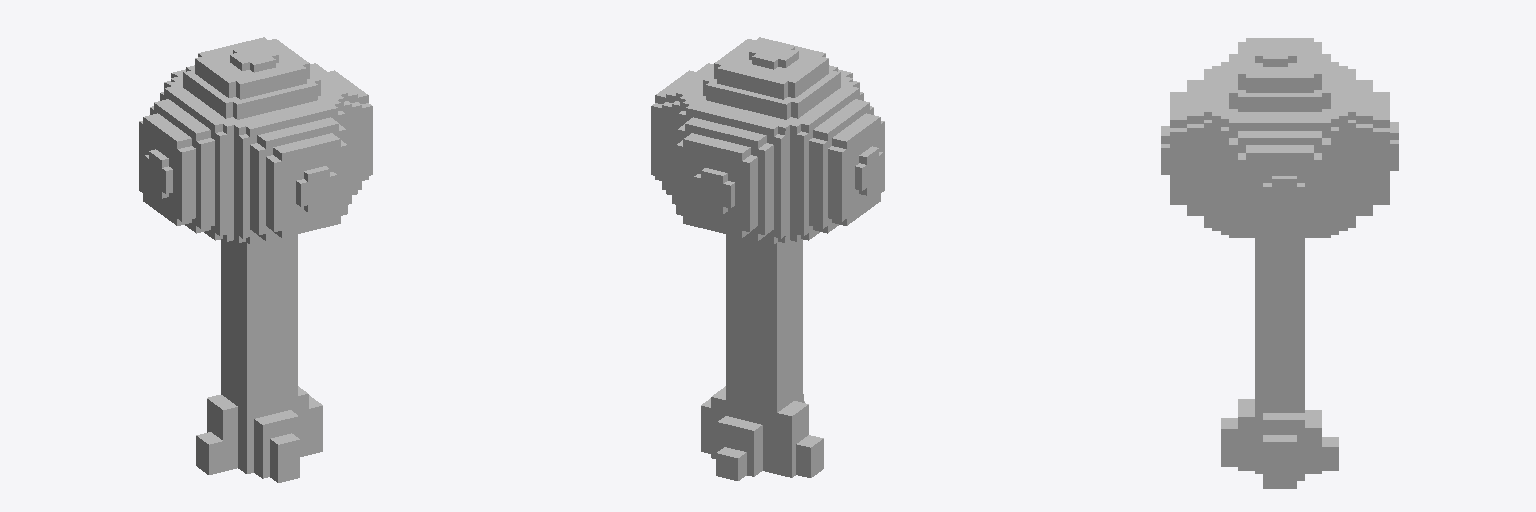
Rendered from Arvore 2.obj.
The picture shows the model from 3 angles: view 1: azimuth 30°, elevation 25°; view 2: azimuth 150°, elevation 25°; view 3: azimuth 270°, elevation 25°; orthographic projection.
Visible parts, largest first — view 1: object 1; view 2: object 1; view 3: object 1.
Boxes of the visible parts, box(x1,y1,x2,y2) form: object 1: box(139, 37, 372, 482); object 1: box(651, 37, 884, 480); object 1: box(1161, 38, 1398, 488).
Size of the model in its own units: 2.8 by 5.3 by 2.8.